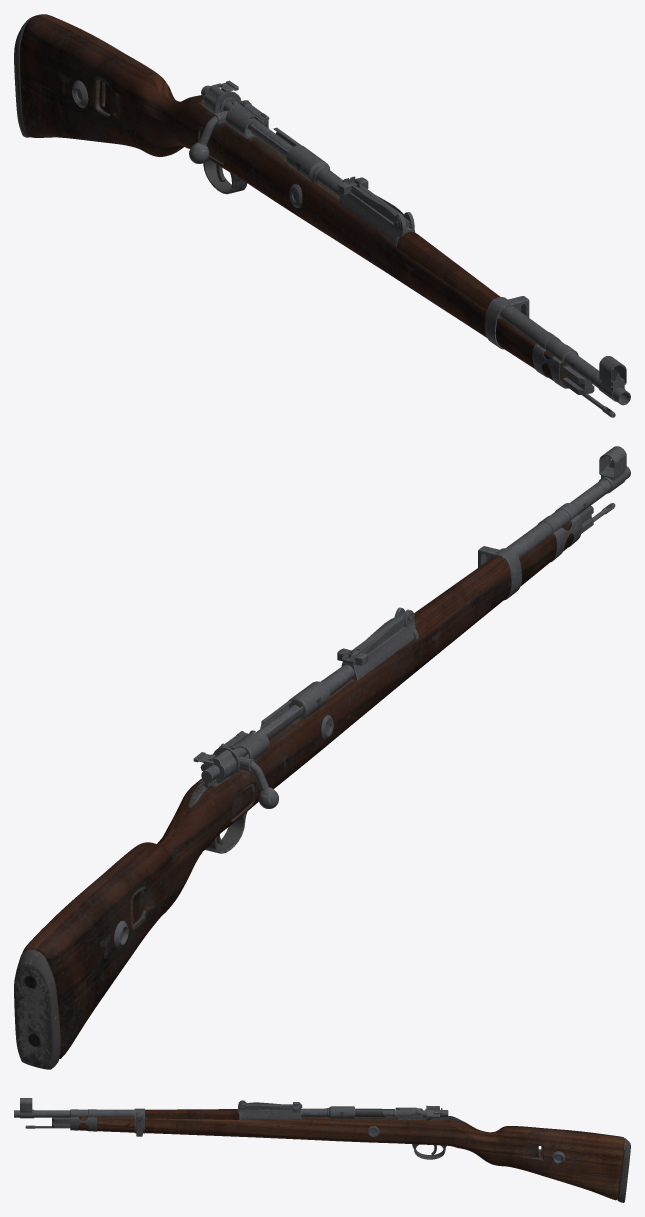
File: mauser_karabner_98k.glb
3 views of the same model, one above another, from view 1: azimuth 30°, elevation 25°; view 2: azimuth 150°, elevation 25°; view 3: azimuth 270°, elevation 25° (orthographic). The views are drawn at different scales.
Parts seen in each view (by area): view 1: g (×12); view 2: g (×6); view 3: g (×13).
Boxes of the visible parts, box(x1,y1,x2,y2) form: g (×12): box(14, 14, 630, 405); g (×6): box(14, 464, 630, 1069); g (×13): box(14, 1098, 630, 1202).
Size of the model in its own units: 0.1178 by 0.3235 by 1.78.
Materials: 2 (2 with a texture image).
